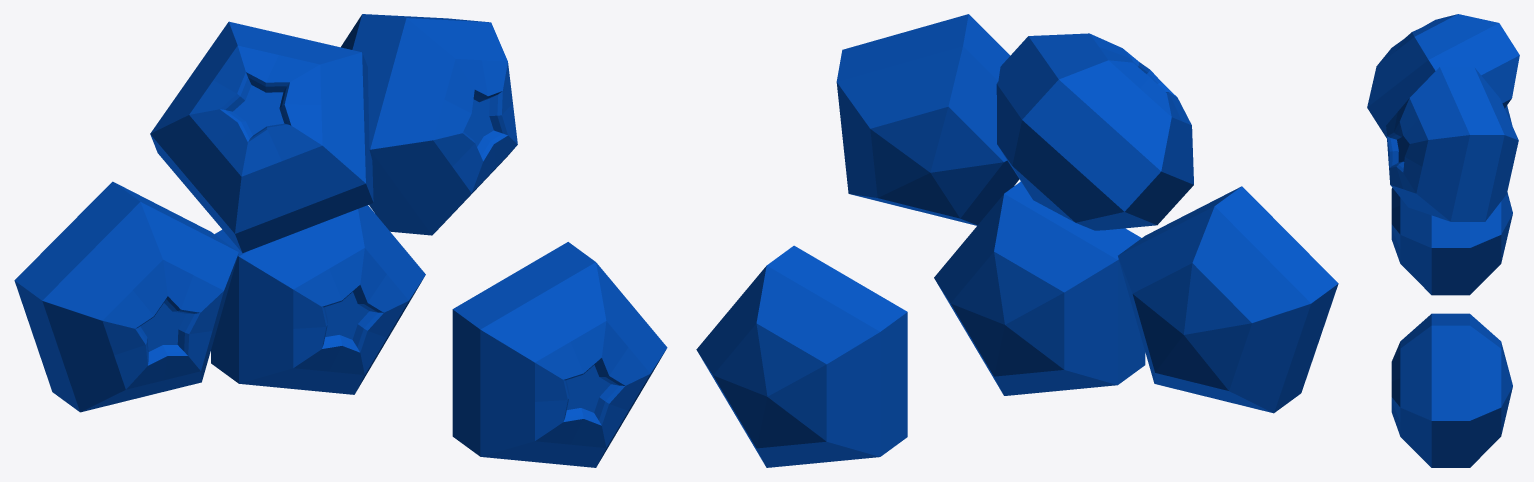
The model's file is BlueBerries_01.obj.
3 renders of one model, left to right at view 1: azimuth 30°, elevation 25°; view 2: azimuth 150°, elevation 25°; view 3: azimuth 270°, elevation 25°, orthographic. The views are drawn at different scales.
Parts seen in each view (by area): view 1: pasted__pSphere32 group; view 2: pasted__pSphere32 group; view 3: pasted__pSphere32 group.
Part boxes in pixels (<box>): pasted__pSphere32 group: <box>14,14,667,467</box>; pasted__pSphere32 group: <box>696,14,1338,467</box>; pasted__pSphere32 group: <box>1367,14,1519,467</box>.
Size of the model in its own units: 63.02 by 47.3 by 19.29.
